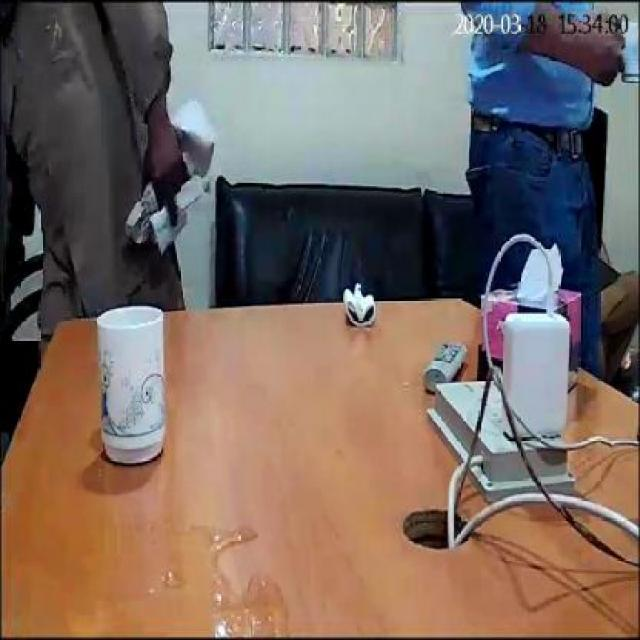spill: (106, 512, 286, 634)
